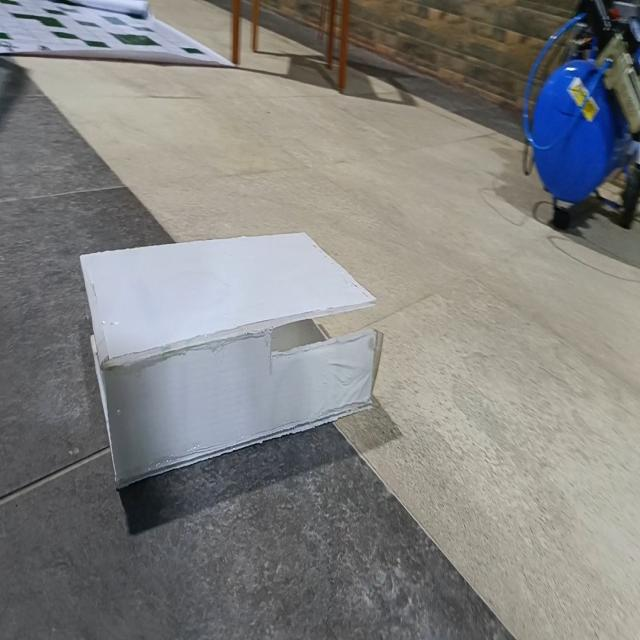Cuboid: (79, 228, 383, 490)
